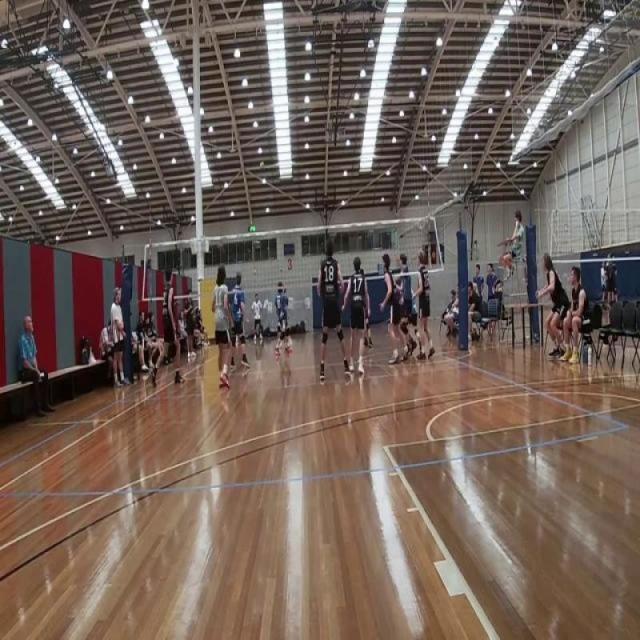volleyball: (259, 161, 265, 172)
